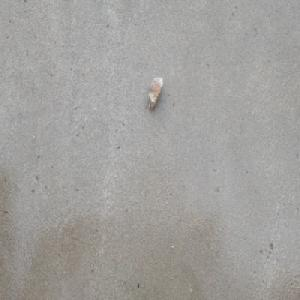Rock: (147, 76, 164, 110)
